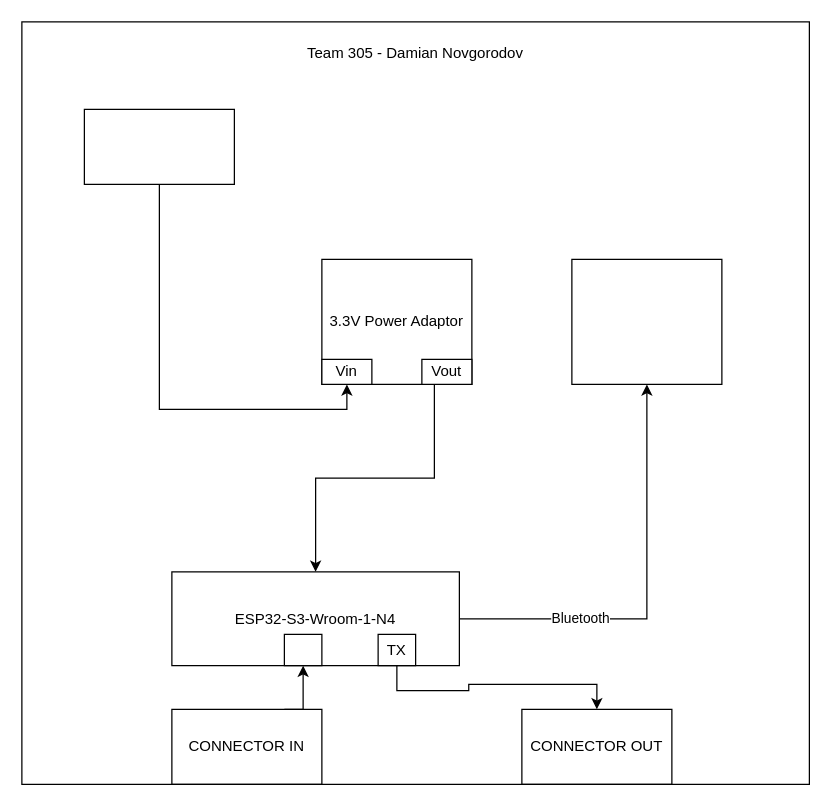
The diagram is 831 pixels wide and 806 high, and some of its shapes have lost their labels. Each missing label, with the centre of its shape:
"DC Barrel Jack" goes at point 158,146.
"External Controller (e.g. laptop)" goes at point 646,321.
"RX" goes at point 302,649.
